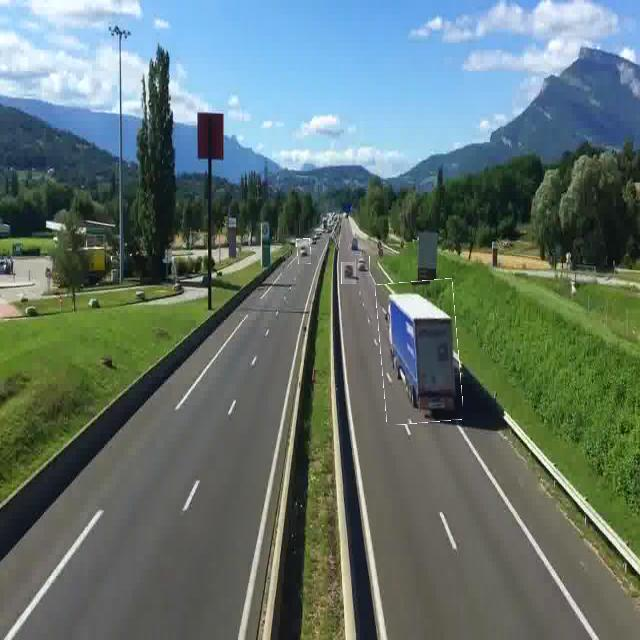Car: (296, 239, 311, 264), (341, 262, 356, 284), (356, 254, 370, 276)
Truck: (378, 280, 461, 423)
